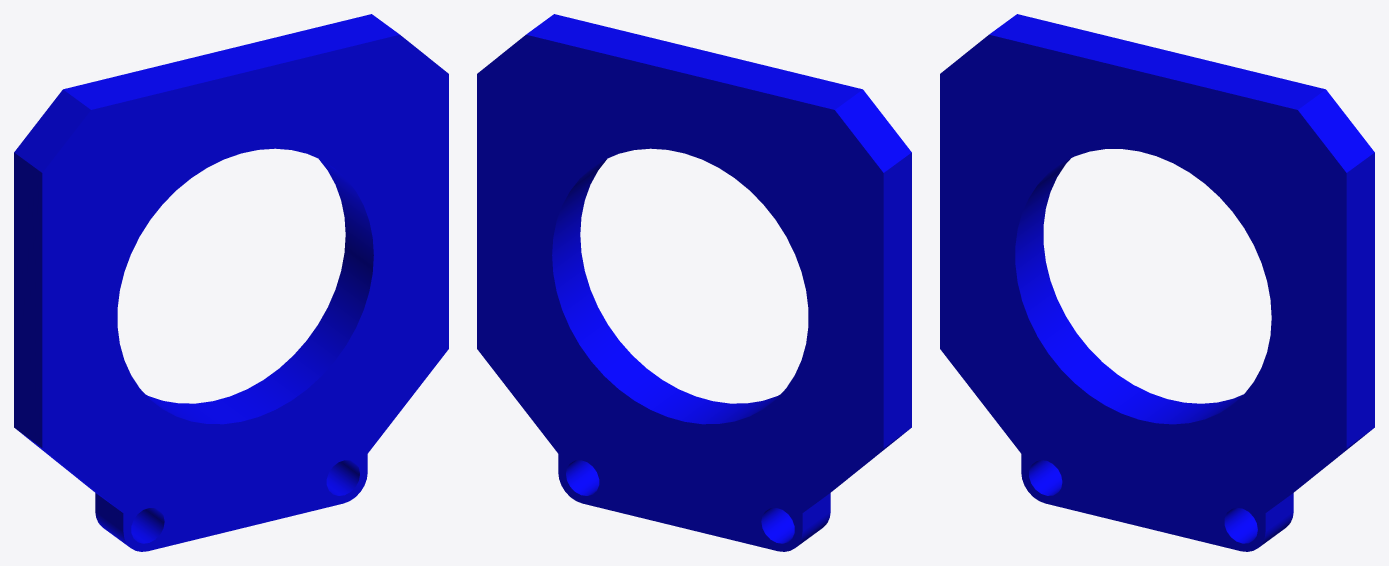
File: Cube 1x1 V5_Filter Mount (SM1).obj
3 views of the same model, side by side, from view 1: azimuth 30°, elevation 25°; view 2: azimuth 150°, elevation 25°; view 3: azimuth 330°, elevation 25° (orthographic).
Visible parts, largest first — view 1: Solid1:21; view 2: Solid1:21; view 3: Solid1:21.
Part boxes in pixels (x1,y1,x2,y2): Solid1:21: (14, 14, 448, 551); Solid1:21: (477, 14, 911, 551); Solid1:21: (940, 14, 1374, 551).
Bounding box in the file's own units: 41.6 × 44.5 × 5.
